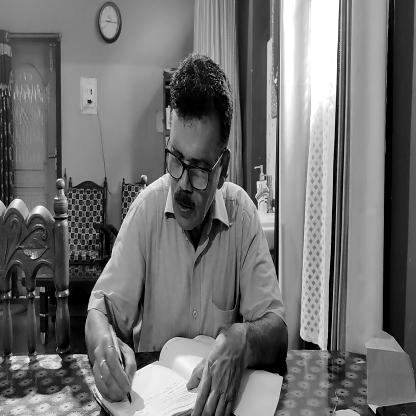Normal: (162, 54, 229, 232)
